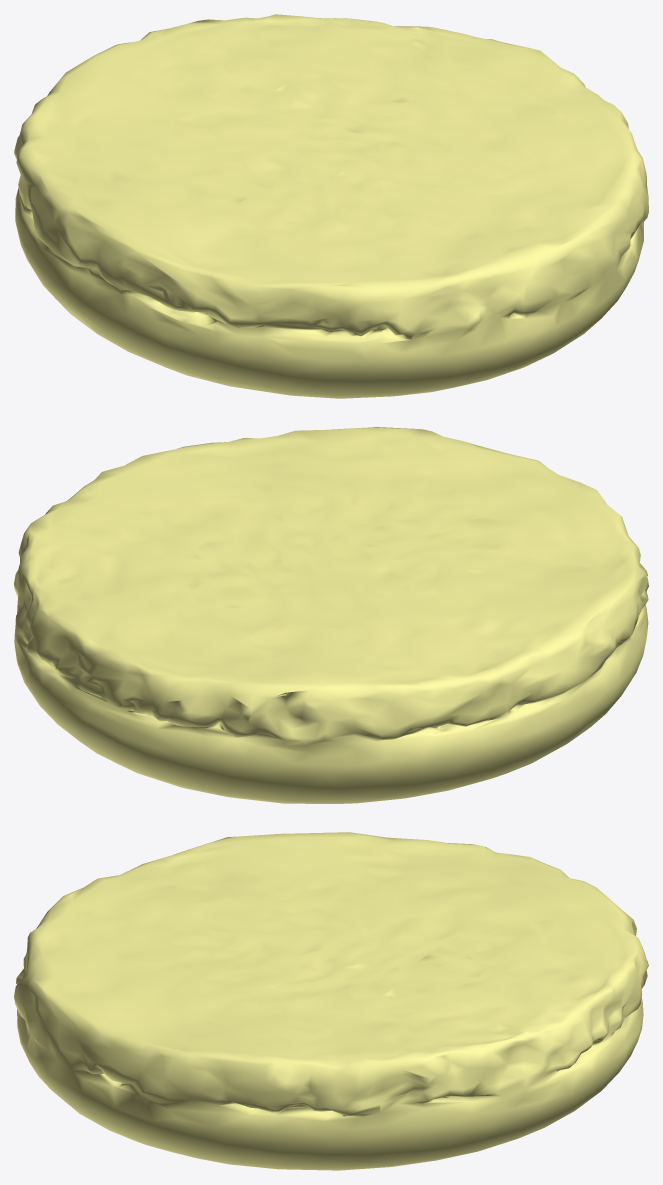
File: biscotto_009_LODs1.fbx
The picture shows the model from 3 angles, top to bottom: view 1: azimuth 30°, elevation 25°; view 2: azimuth 150°, elevation 25°; view 3: azimuth 270°, elevation 25°; orthographic projection. The views are drawn at different scales.
Parts seen in each view (by area): view 1: biscotto_009_LOD0; view 2: biscotto_009_LOD0; view 3: biscotto_009_LOD0.
Boxes of the visible parts, x1=… form: biscotto_009_LOD0: x1=14, y1=14, x2=648, y2=398; biscotto_009_LOD0: x1=14, y1=427, x2=648, y2=803; biscotto_009_LOD0: x1=14, y1=832, x2=648, y2=1170.
Size of what is drawn, in the model's own units: 54.74 by 16.22 by 59.11.
